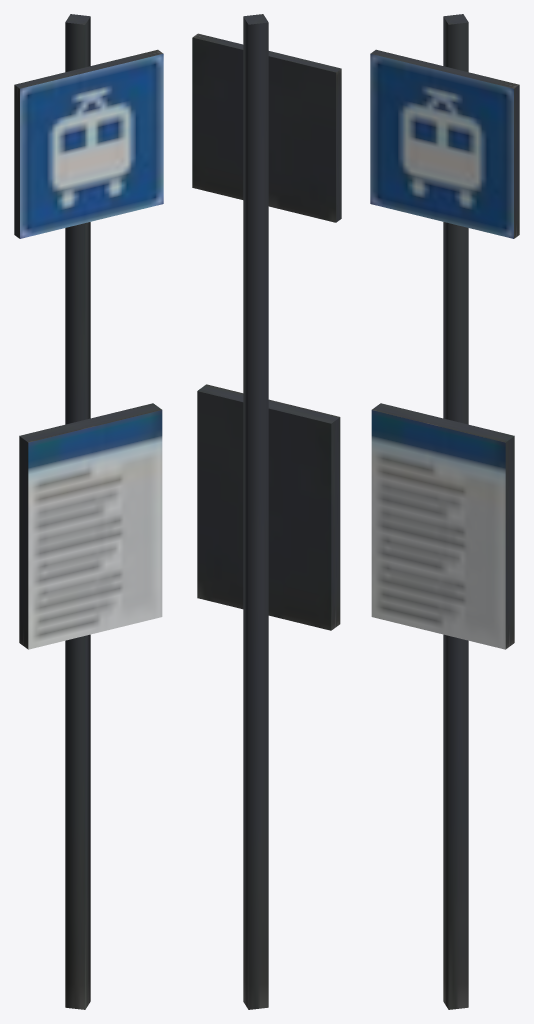
Rendered from totem_arret_lod2.glb.
The picture shows the model from 3 angles, left to right: view 1: azimuth 30°, elevation 25°; view 2: azimuth 150°, elevation 25°; view 3: azimuth 330°, elevation 25°; orthographic projection.
Visible parts, largest first — view 1: totem_arret; view 2: totem_arret; view 3: totem_arret.
Boxes of the visible parts, bbox=[...] form: totem_arret: bbox=[14, 14, 163, 1009]; totem_arret: bbox=[192, 14, 341, 1009]; totem_arret: bbox=[370, 14, 519, 1009].
Bounding box in the file's own units: 0.45 × 2.95 × 0.135.
1 material, 1 textured.
